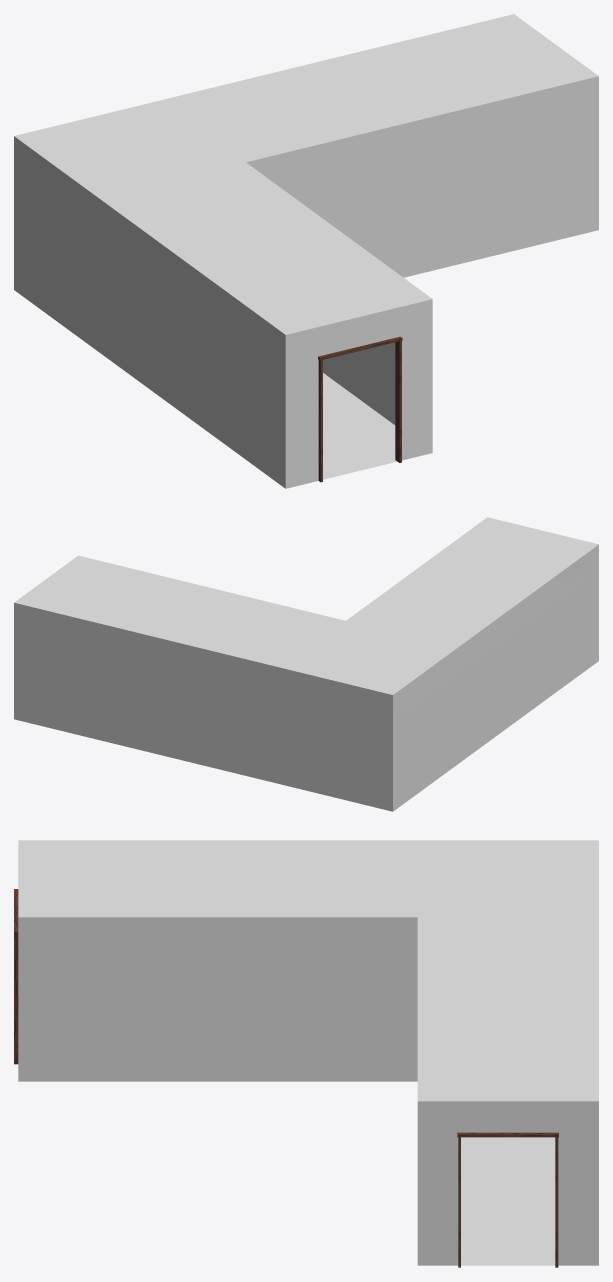
Rendered from lshapedhallway 1.fbx.
3 views of the same model, one above another, from view 1: azimuth 30°, elevation 25°; view 2: azimuth 150°, elevation 25°; view 3: azimuth 270°, elevation 25° (orthographic). The views are drawn at different scales.
Visible parts, largest first — view 1: L-Shaped Hallway; view 2: L-Shaped Hallway; view 3: L-Shaped Hallway.
Part boxes in pixels (<box>): L-Shaped Hallway: <box>14,14,598,488</box>; L-Shaped Hallway: <box>14,517,598,811</box>; L-Shaped Hallway: <box>14,840,598,1267</box>.
Size of the model in its own units: 1070 by 313 by 1008.
3 materials, 1 textured.
